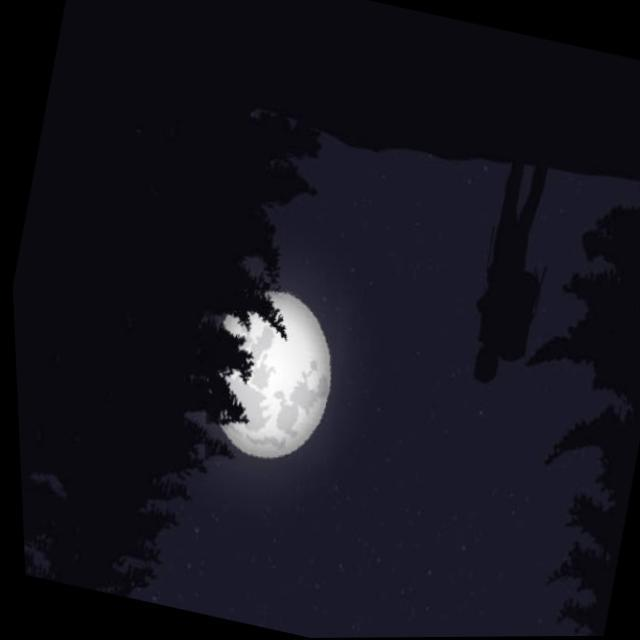moon: (171, 270, 357, 481)
